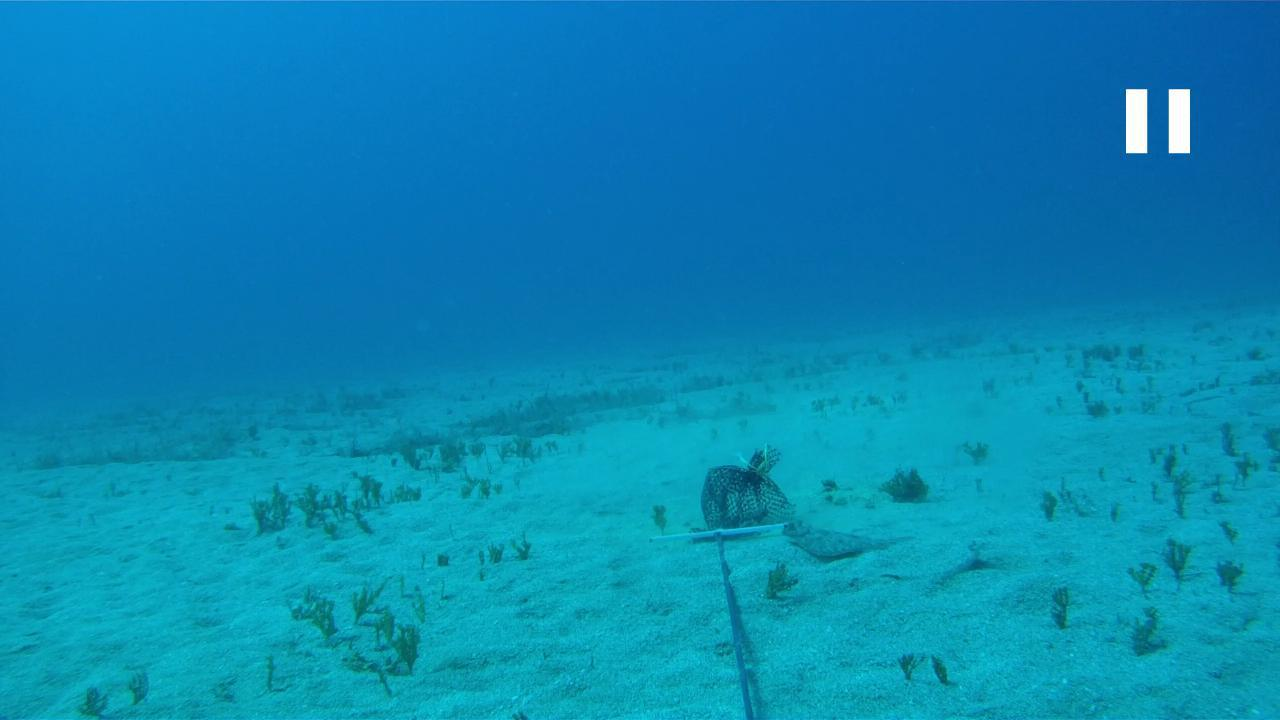bothus: (871, 536, 988, 598), (775, 516, 916, 557)
